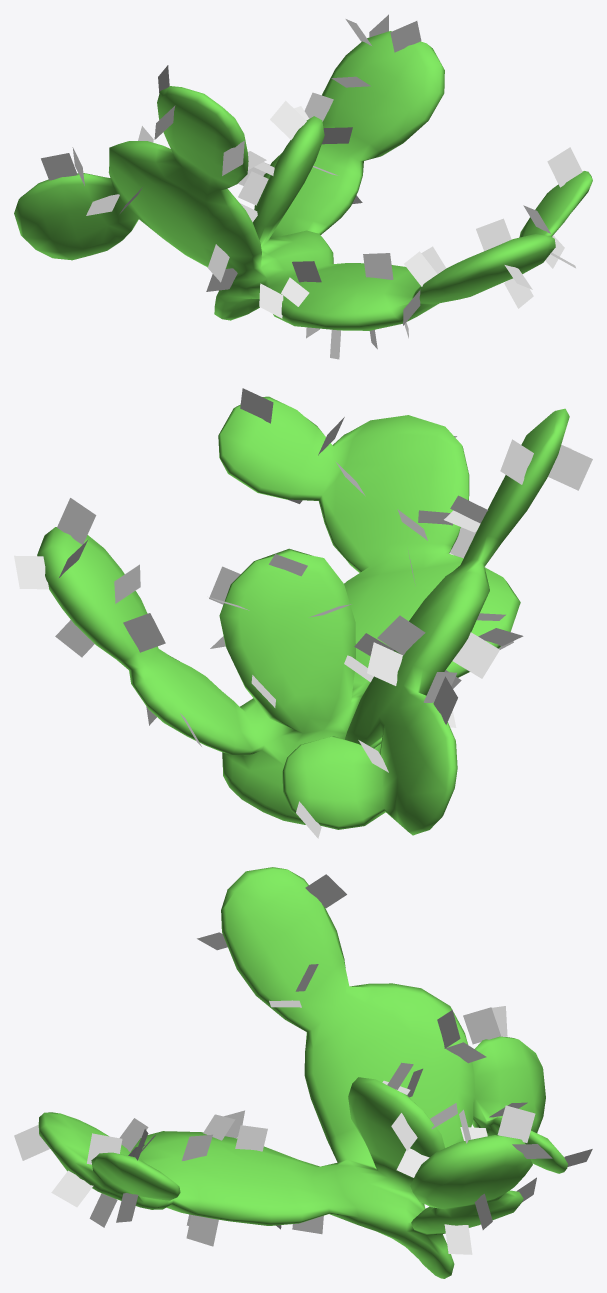
Rendered from Cactus_3.fbx.
3 views of the same model, one above another, from view 1: azimuth 30°, elevation 25°; view 2: azimuth 150°, elevation 25°; view 3: azimuth 270°, elevation 25° (orthographic). The views are drawn at different scales.
Visible parts, largest first — view 1: Cactus_3_LOD0; view 2: Cactus_3_LOD0; view 3: Cactus_3_LOD0.
Boxes of the visible parts, x1=… form: Cactus_3_LOD0: x1=14, y1=14, x2=592, y2=359; Cactus_3_LOD0: x1=14, y1=388, x2=592, y2=838; Cactus_3_LOD0: x1=14, y1=867, x2=592, y2=1278.
Size of what is drawn, in the model's own units: 505 by 403 by 639.
